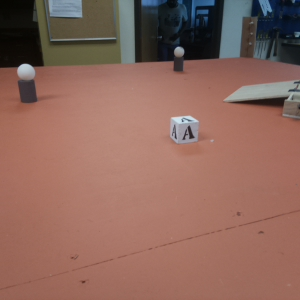blockA: (165, 114, 201, 143)
corner: (237, 14, 259, 59)
obstacle: (16, 63, 41, 104), (172, 48, 188, 77)
slope: (218, 81, 298, 109)
